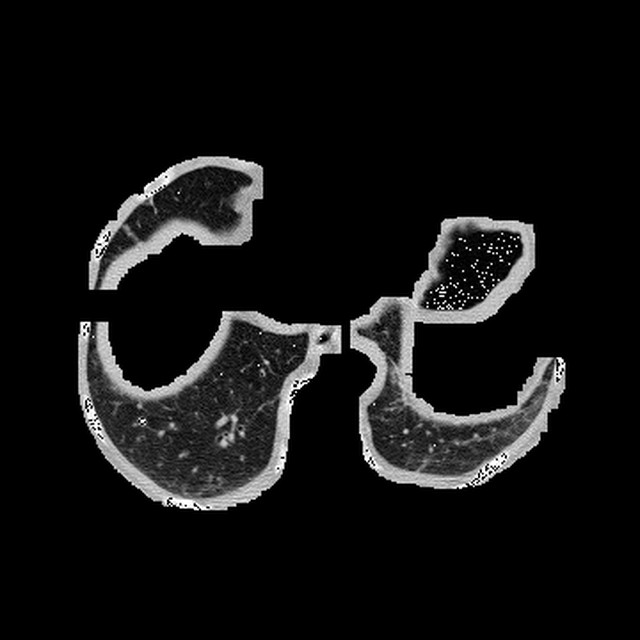PN: (137, 418, 144, 425)
